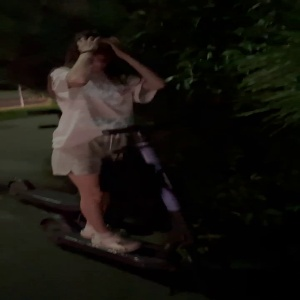human on a scooter: (33, 23, 232, 291)
